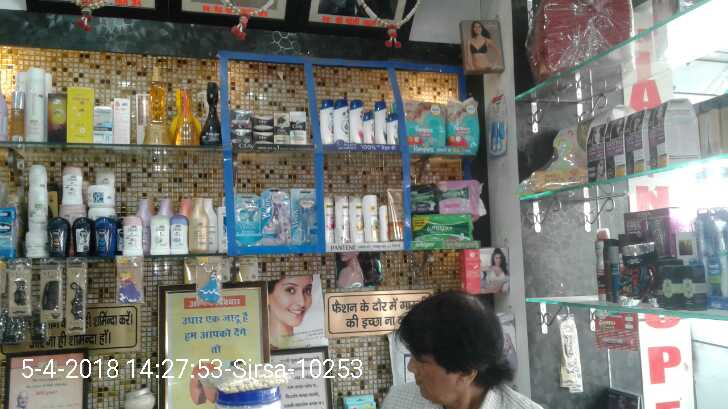venus: (262, 188, 294, 248), (233, 192, 263, 248), (295, 187, 320, 247)
